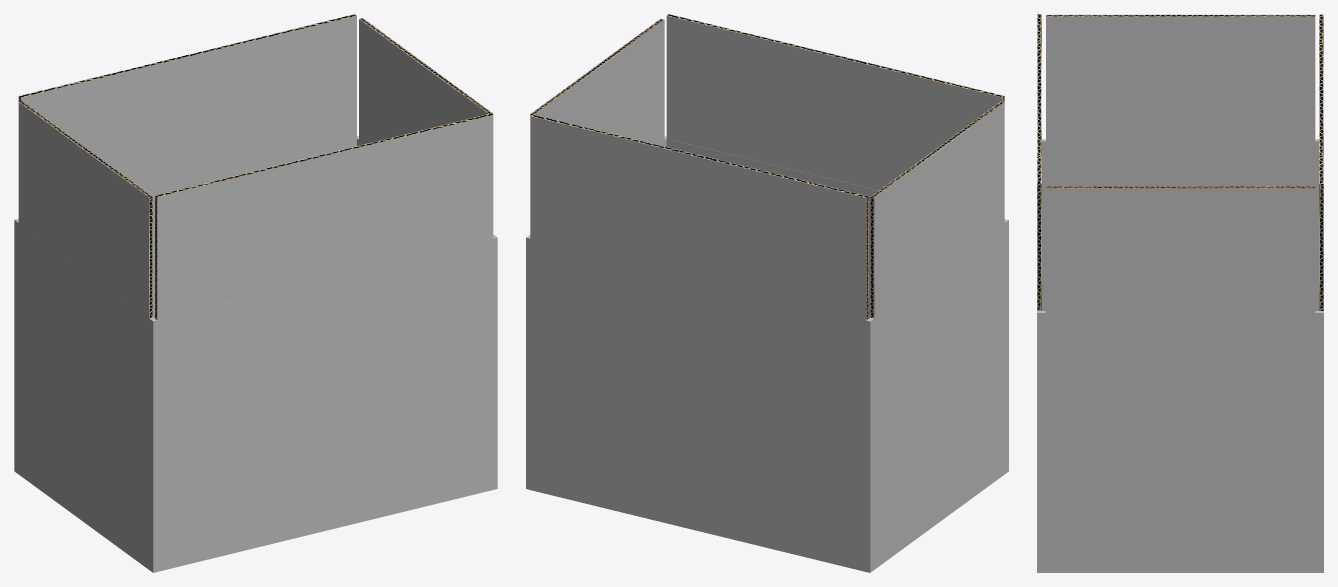
The picture shows the model from 3 angles, left to right: view 1: azimuth 30°, elevation 25°; view 2: azimuth 150°, elevation 25°; view 3: azimuth 270°, elevation 25°; orthographic projection. The views are drawn at different scales.
Parts seen in each view (by area): view 1: side 3.001, top side 2.001, side 2.001, top side 1.001, top side 3.001, top side 4.001, side 1.001, side 4.001; view 2: side 1.001, top side 1.001, side 2.001, top side 2.001, top side 3.001, top side 4.001, side 3.001, side 4.001; view 3: side 4.001, top side 3.001, top side 4.001, side 2.001, top side 2.001, top side 1.001.
Boxes of the visible parts, bbox=[...] form: side 3.001: bbox=[157, 238, 493, 571]; top side 2.001: bbox=[155, 113, 493, 319]; side 2.001: bbox=[14, 219, 157, 572]; top side 1.001: bbox=[18, 14, 356, 190]; top side 3.001: bbox=[18, 101, 152, 317]; top side 4.001: bbox=[359, 18, 493, 144]; side 1.001: bbox=[145, 139, 356, 318]; side 4.001: bbox=[357, 135, 497, 489]; side 1.001: bbox=[530, 238, 865, 571]; top side 1.001: bbox=[530, 114, 868, 320]; side 2.001: bbox=[866, 219, 1008, 572]; top side 2.001: bbox=[666, 14, 1004, 190]; top side 3.001: bbox=[870, 101, 1004, 318]; top side 4.001: bbox=[530, 18, 664, 145]; side 3.001: bbox=[666, 139, 878, 318]; side 4.001: bbox=[526, 136, 666, 489]; side 4.001: bbox=[1037, 311, 1323, 572]; top side 3.001: bbox=[1046, 14, 1315, 143]; top side 4.001: bbox=[1046, 186, 1315, 312]; side 2.001: bbox=[1042, 139, 1318, 310]; top side 2.001: bbox=[1037, 14, 1041, 310]; top side 1.001: bbox=[1319, 14, 1323, 310].
Size of the model in its own units: 286 by 298 by 200.
